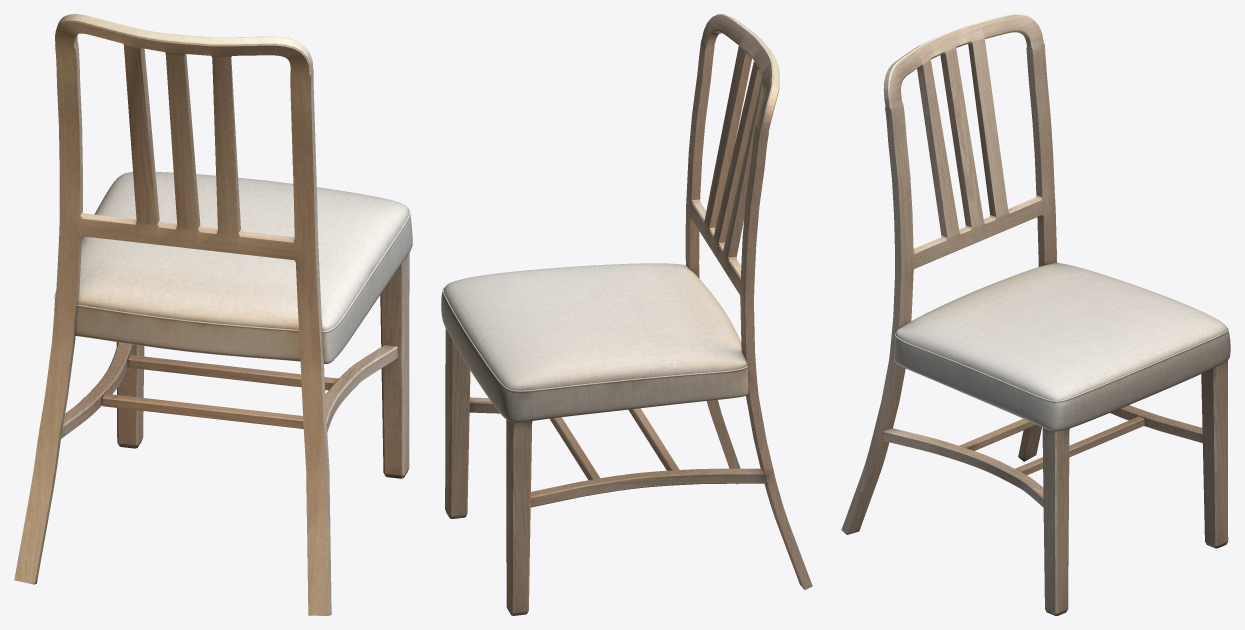
The model's file is Dinning Chair.fbx.
3 renders of one model, left to right at view 1: azimuth 30°, elevation 25°; view 2: azimuth 150°, elevation 25°; view 3: azimuth 270°, elevation 25°, orthographic. The views are drawn at different scales.
Visible parts, largest first — view 1: Object001; view 2: Object001; view 3: Object001.
Part boxes in pixels (<box>): Object001: <box>14,14,412,615</box>; Object001: <box>441,14,812,615</box>; Object001: <box>841,14,1230,615</box>.
Size of the model in its own units: 675 by 881 by 671.
1 material, 1 textured.
